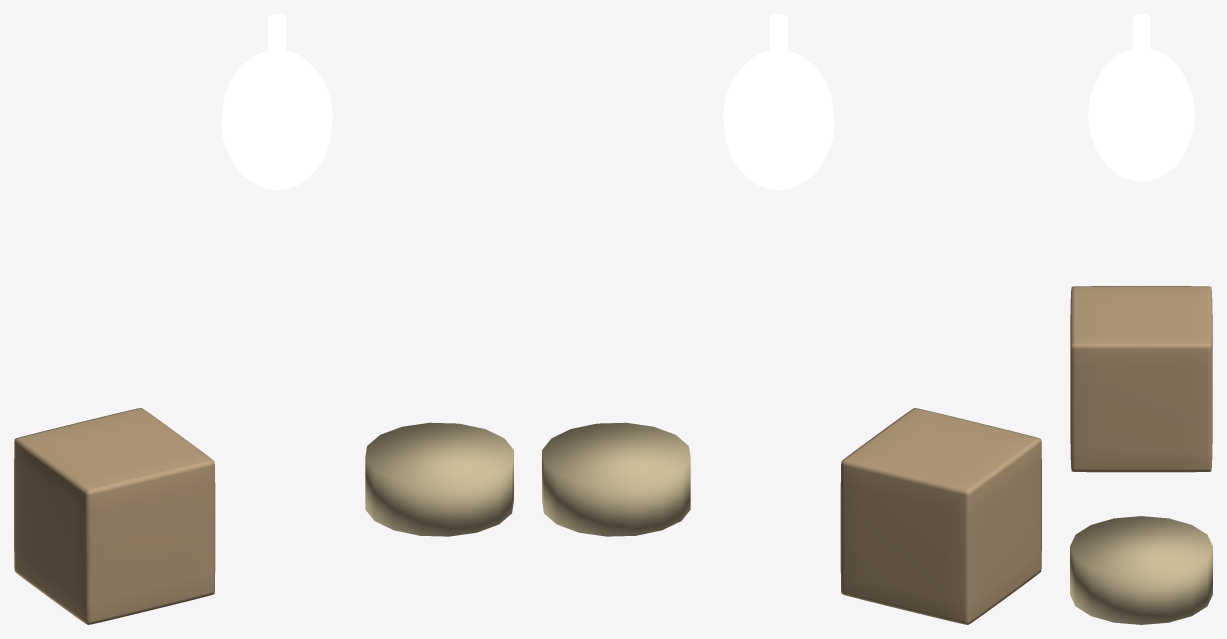
File: props.glb
3 renders of one model, left to right at view 1: azimuth 30°, elevation 25°; view 2: azimuth 150°, elevation 25°; view 3: azimuth 270°, elevation 25°, orthographic. The views are drawn at different scales.
Parts seen in each view (by area): view 1: Prop_WoodenCrate, Prop_SeasoningBasket, Prop_Lantern; view 2: Prop_WoodenCrate, Prop_SeasoningBasket, Prop_Lantern; view 3: Prop_WoodenCrate, Prop_SeasoningBasket, Prop_Lantern.
Part boxes in pixels (x1,y1,x2,y2): Prop_WoodenCrate: (14,408,215,624); Prop_SeasoningBasket: (365,422,513,536); Prop_Lantern: (221,14,332,189); Prop_WoodenCrate: (840,408,1041,624); Prop_SeasoningBasket: (542,422,690,536); Prop_Lantern: (723,14,834,189); Prop_WoodenCrate: (1070,286,1212,472); Prop_SeasoningBasket: (1070,516,1212,624); Prop_Lantern: (1088,14,1194,181).
Size of the model in its own units: 2.8 by 3.1 by 0.8.
